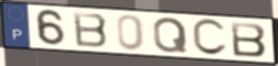0: (115, 14, 147, 53)
6: (35, 8, 69, 47)
B: (71, 11, 110, 50), (229, 21, 269, 59)
C: (190, 17, 230, 58)
Q: (152, 16, 190, 54)
